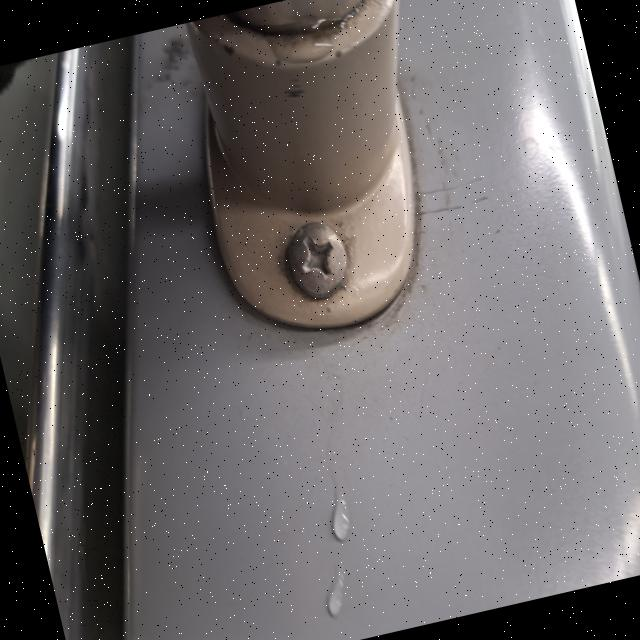Phillips: (274, 217, 355, 305)
